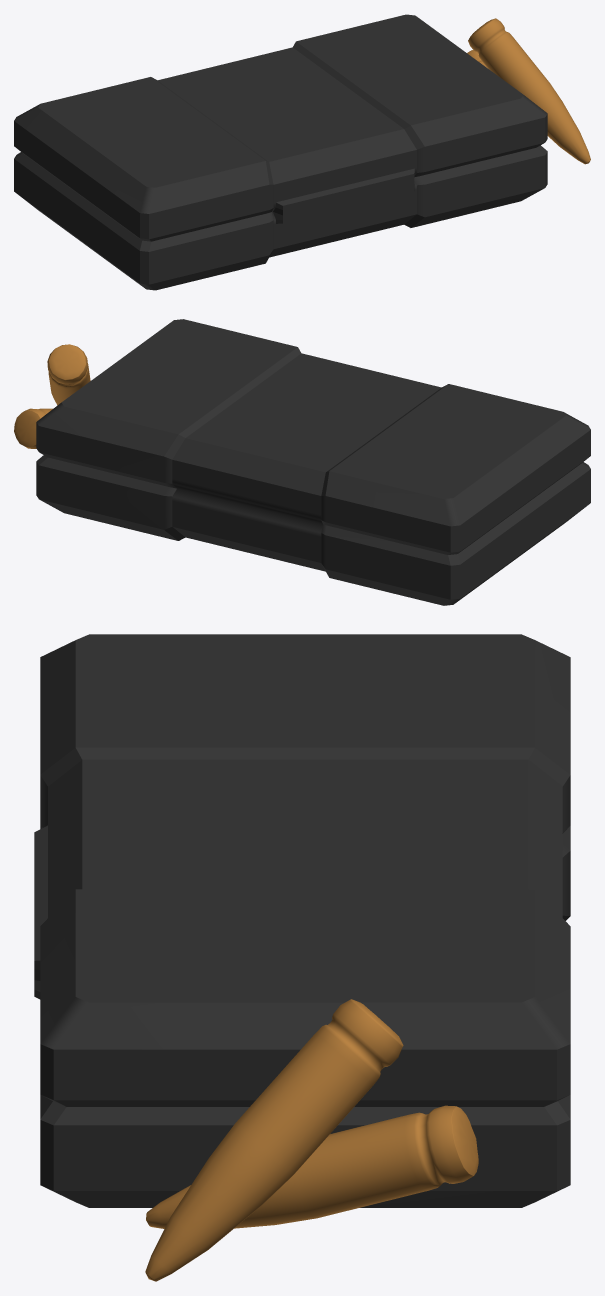
File: Magazine.fbx
3 views of the same model, one above another, from view 1: azimuth 30°, elevation 25°; view 2: azimuth 150°, elevation 25°; view 3: azimuth 270°, elevation 25° (orthographic). The views are drawn at different scales.
Parts seen in each view (by area): view 1: bullet; view 2: bullet; view 3: bullet.
Part boxes in pixels (bbox=[...]): bullet: bbox=[14, 14, 590, 290]; bullet: bbox=[14, 319, 590, 605]; bullet: bbox=[34, 634, 570, 1281].
Bounding box in the file's own units: 6.23 × 1.5 × 3.04.
